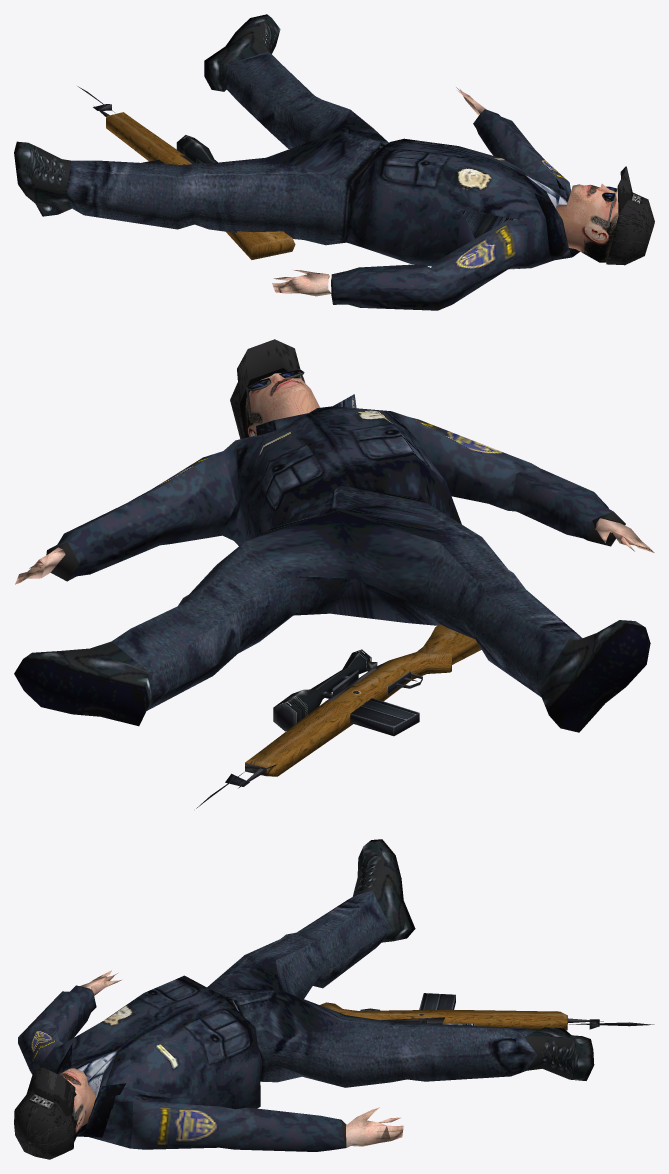
Rendered from pr_alt.FBX.
3 renders of one model, top to bottom at view 1: azimuth 30°, elevation 25°; view 2: azimuth 150°, elevation 25°; view 3: azimuth 270°, elevation 25°, orthographic. The views are drawn at different scales.
Parts seen in each view (by area): view 1: pr_guardalt; view 2: pr_guardalt; view 3: pr_guardalt.
Part boxes in pixels (x1=…): pr_guardalt: x1=14, y1=14, x2=654, y2=310; pr_guardalt: x1=14, y1=339, x2=654, y2=808; pr_guardalt: x1=14, y1=839, x2=654, y2=1159.
Bounding box in the file's own units: 93.69 × 109 × 22.76.
